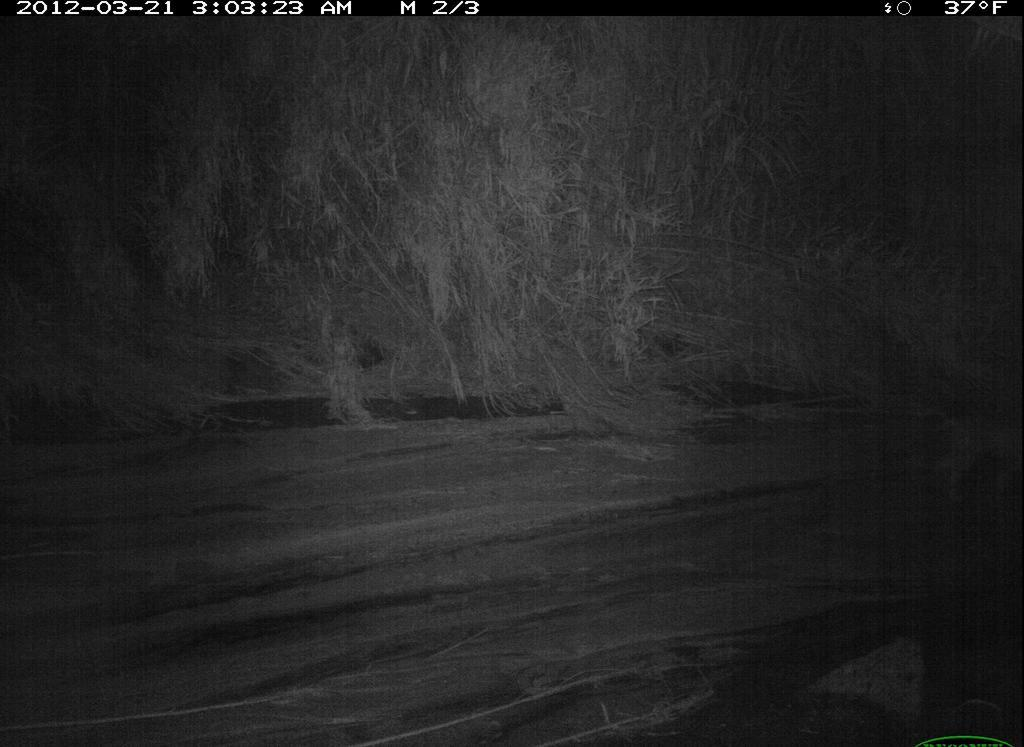bobcat: (913, 393, 1024, 541)
